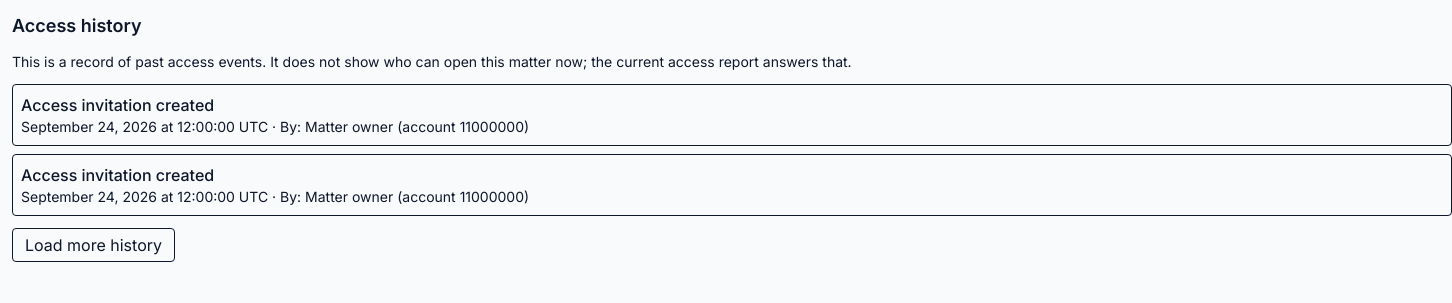
Test case: Stage 10 AccessHistoryPanel › pages with the opaque cursor via a keyboard-reachable button and appends in order
Click the button "Load more history" at (94, 245), box left=12, top=228, right=175, bottom=262
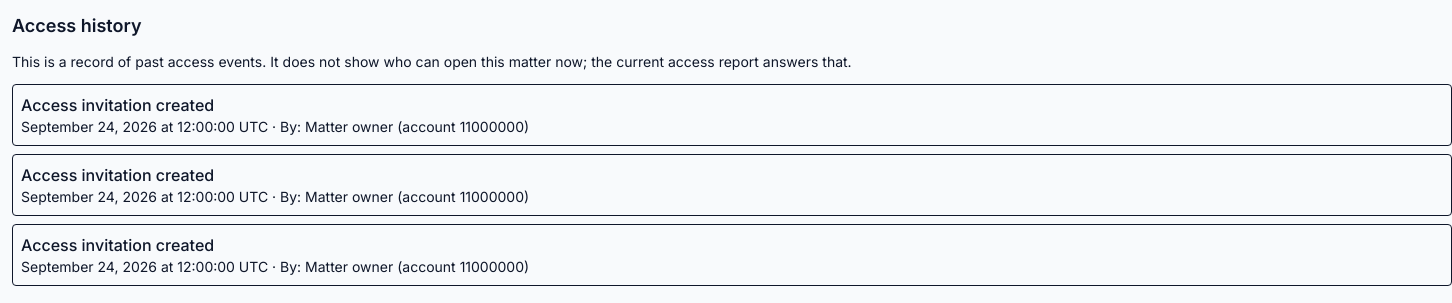
Expected: the number of list items with test id "access-history-entry" is 3, left=12, top=84, right=1451, bottom=146; left=12, top=154, right=1451, bottom=216; left=12, top=224, right=1451, bottom=286
Expected: the button "Load more history" is gone
